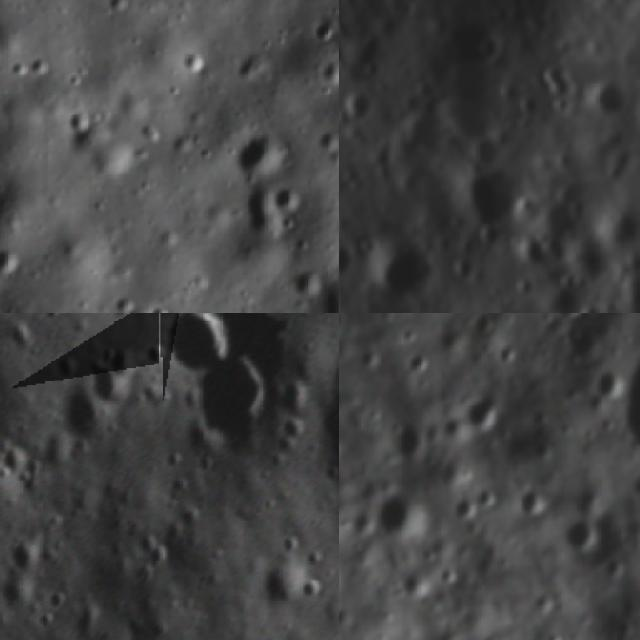crater: (186, 354, 284, 454), (360, 221, 452, 309), (440, 153, 533, 240), (158, 313, 238, 374), (53, 374, 111, 458), (534, 177, 602, 248), (84, 339, 144, 416), (251, 556, 322, 619), (496, 216, 562, 280), (230, 177, 284, 238), (374, 492, 440, 540), (577, 74, 632, 127), (238, 124, 290, 177), (339, 79, 390, 133), (623, 328, 640, 474), (466, 384, 511, 438), (53, 98, 98, 144), (4, 526, 45, 575), (130, 528, 174, 571), (588, 356, 624, 406), (268, 180, 311, 217), (386, 421, 428, 458), (283, 259, 320, 299), (403, 340, 440, 380), (339, 228, 362, 284), (170, 44, 207, 78), (518, 483, 550, 520), (304, 9, 339, 42), (311, 52, 339, 92), (0, 238, 23, 281), (566, 514, 592, 552), (602, 554, 629, 583), (437, 560, 465, 586), (44, 583, 69, 612), (472, 486, 502, 509), (402, 576, 428, 602), (543, 313, 598, 323), (469, 313, 492, 334), (37, 604, 55, 630), (456, 496, 475, 520), (544, 622, 569, 640), (478, 625, 499, 640), (629, 478, 640, 500), (504, 637, 524, 640)
